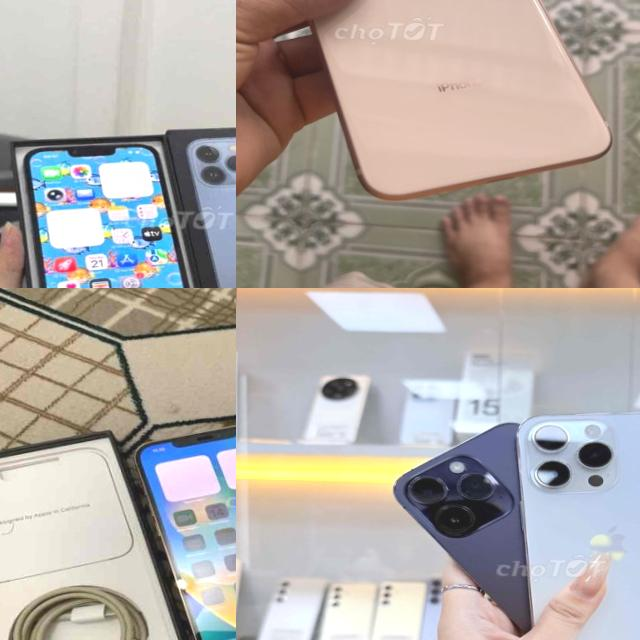gen_12_13: (15, 134, 204, 288), (125, 418, 236, 640)
gen_14: (510, 396, 640, 640)
gen_7_8: (254, 0, 622, 206)
